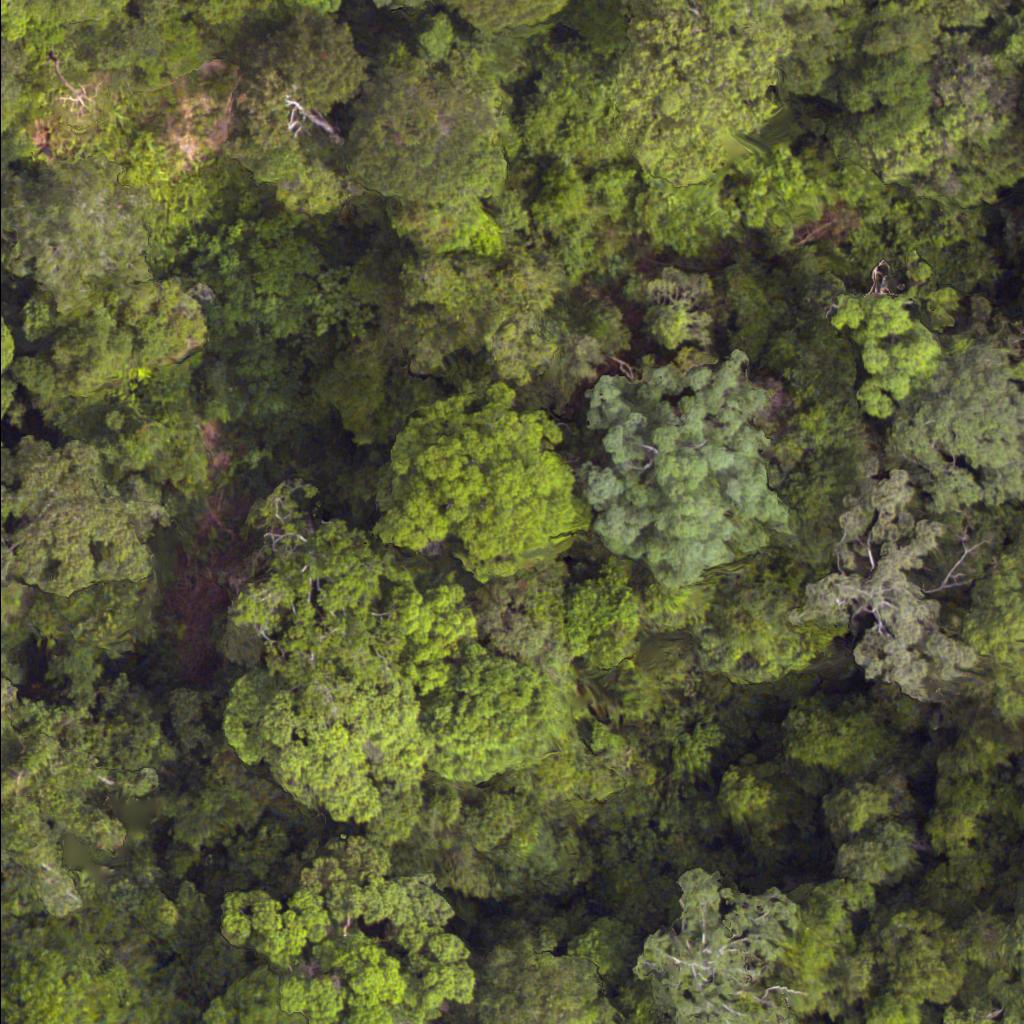crown: (582, 350, 798, 588), (369, 383, 593, 582), (609, 0, 842, 186), (393, 257, 613, 393), (216, 837, 462, 957), (785, 0, 941, 159), (348, 62, 497, 205), (827, 286, 943, 418), (636, 860, 808, 941), (781, 703, 891, 780), (459, 0, 595, 43), (0, 312, 16, 371), (1022, 892, 1023, 898)
